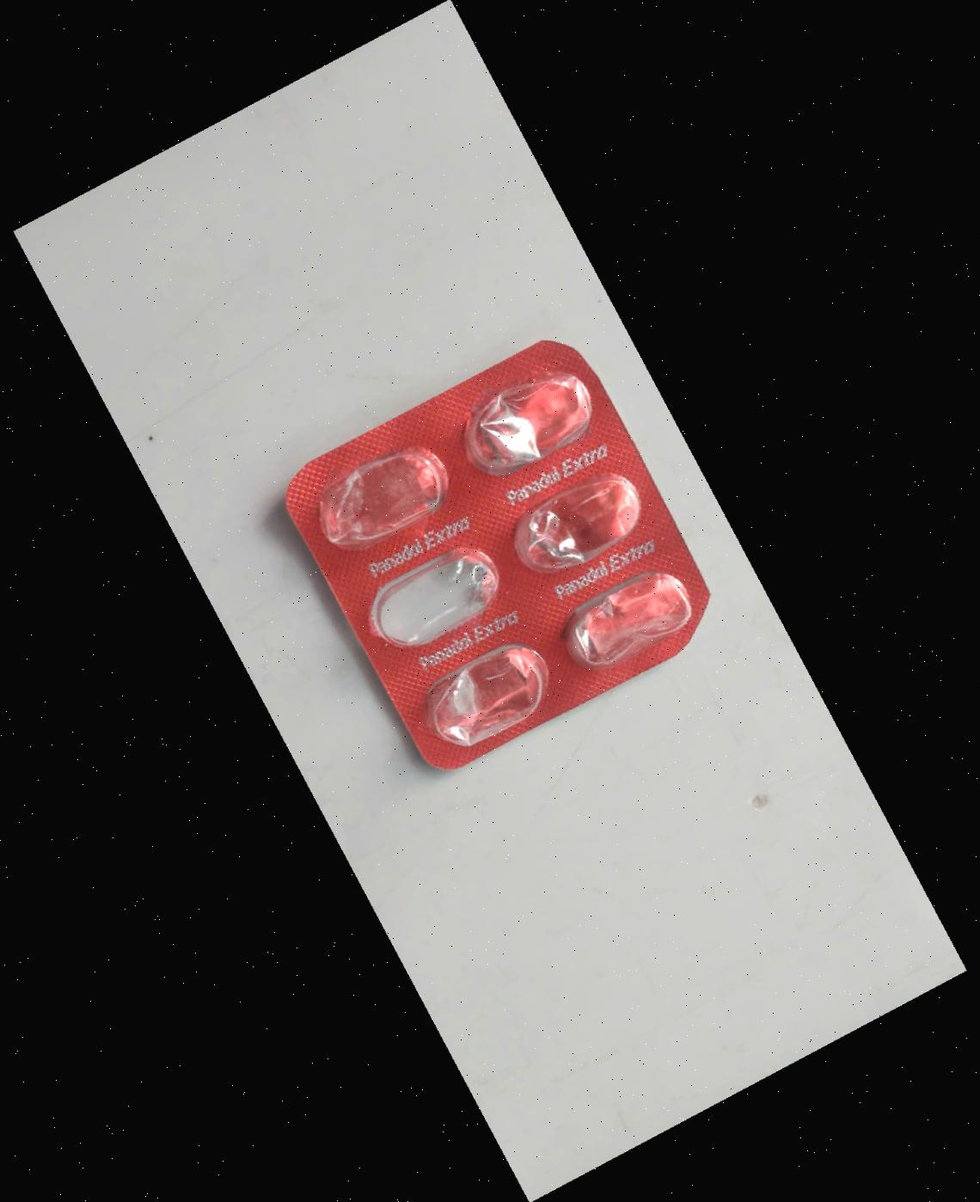Empty: (446, 358, 610, 493), (408, 631, 569, 765), (356, 534, 517, 668), (550, 553, 711, 687), (498, 461, 659, 595), (305, 433, 465, 567)
